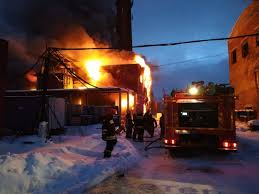fire: (36, 34, 165, 106)
